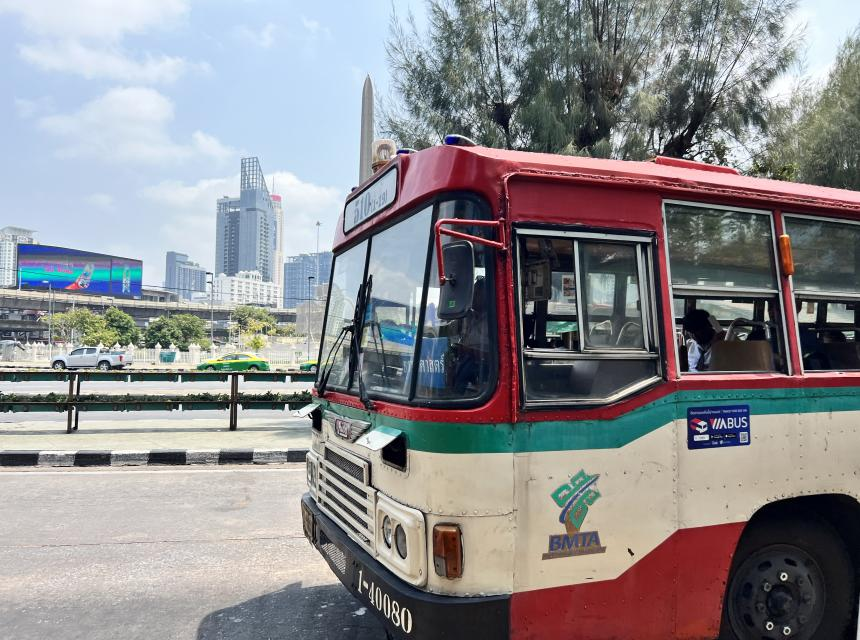BMTA-bus: (301, 136, 860, 640)
Bus Line Number: (349, 170, 392, 228)
Bus Side Number: (355, 559, 416, 638)
Destination Sign: (399, 336, 451, 388)
